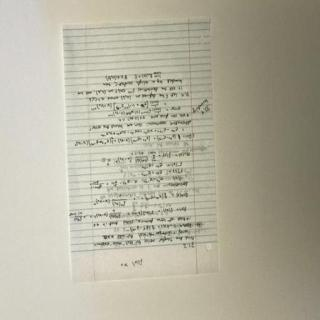Anorganik: (56, 15, 225, 285)
